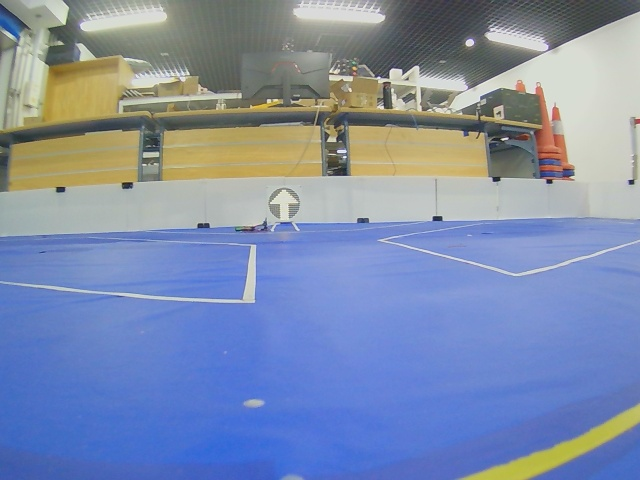straight_yellow: (268, 187, 300, 222)
